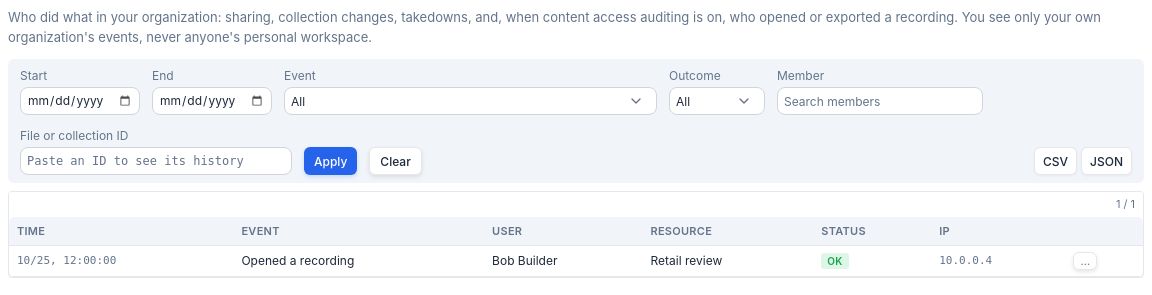
Test: OrgAuditLogPanel › refuses to apply a malformed resource id and says so
The image size is (1152, 295).
Expected: the text "Bob Builder" is shown, [484,246,642,276]
Type "not-a-uuid" into the field with placeholder "Paste an ID to see its history" at (156, 161), box [20,147,292,175]
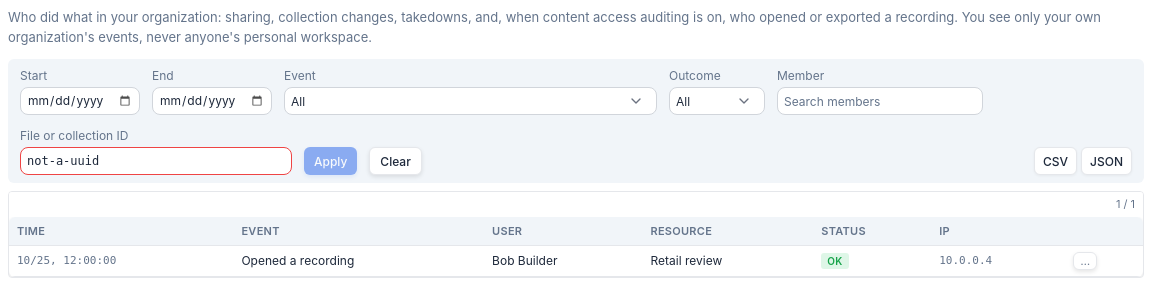
Result: the button "Apply" is disabled at [304,147,357,175]
